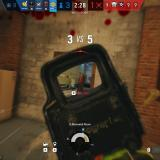Character: (79, 78, 82, 82)
Head: (80, 78, 81, 80)
